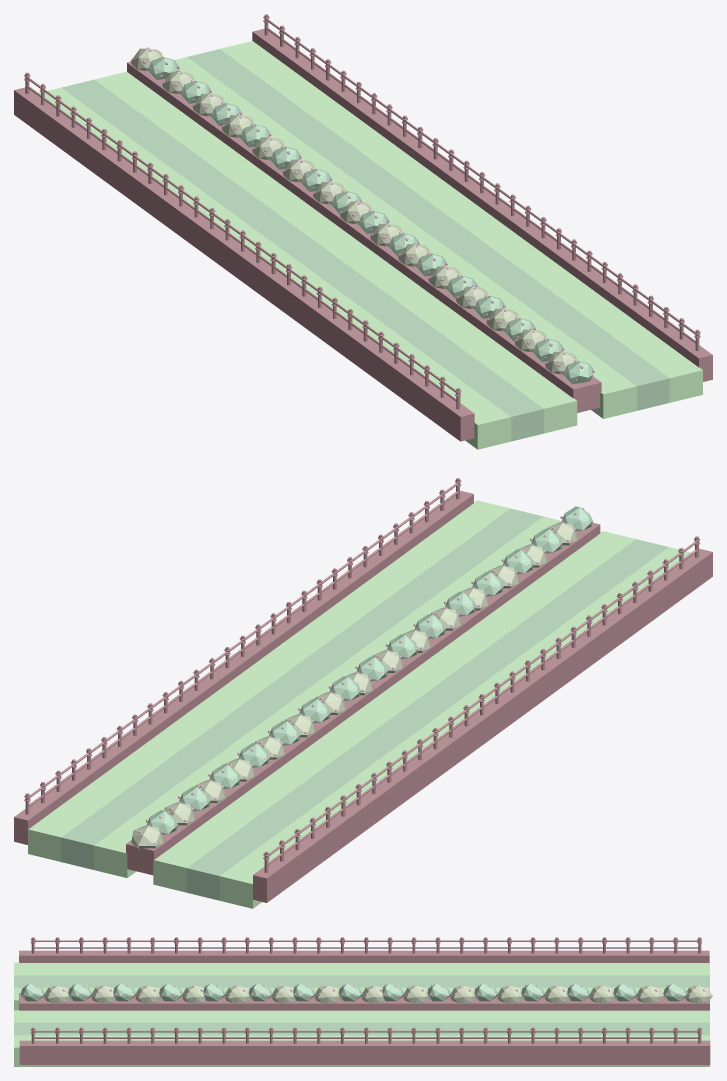
File: yolll.fbx
3 views of the same model, one above another, from view 1: azimuth 30°, elevation 25°; view 2: azimuth 150°, elevation 25°; view 3: azimuth 270°, elevation 25° (orthographic). The views are drawn at different scales.
Parts seen in each view (by area): view 1: yol, Cube, Cylinder.001, Bush01.001, Bush03.001; view 2: yol, Cube, Cylinder.001, Bush03.001, Bush01.001; view 3: yol, Cube, Cylinder.001, Bush01.001, Bush03.001, BushBerry01.001, BushBerry03.
Part boxes in pixels (x1,y1,x2,y2): yol: (39, 41, 702, 449); Cube: (14, 28, 712, 441); Cylinder.001: (24, 14, 700, 409); Bush01.001: (130, 48, 577, 374); Bush03.001: (147, 57, 593, 383); yol: (28, 500, 691, 908); Cube: (14, 490, 712, 902); Cylinder.001: (24, 478, 700, 872); Bush03.001: (147, 506, 592, 834); Bush01.001: (132, 522, 577, 849); yol: (14, 962, 709, 1066); Cube: (19, 950, 710, 1064); Cylinder.001: (30, 937, 701, 1043); Bush01.001: (44, 985, 712, 1003); Bush03.001: (20, 983, 687, 1001); BushBerry01.001: (43, 986, 705, 1002); BushBerry03: (23, 984, 679, 997).
Bounding box in the file's own units: 6368 × 1289 × 19719.
